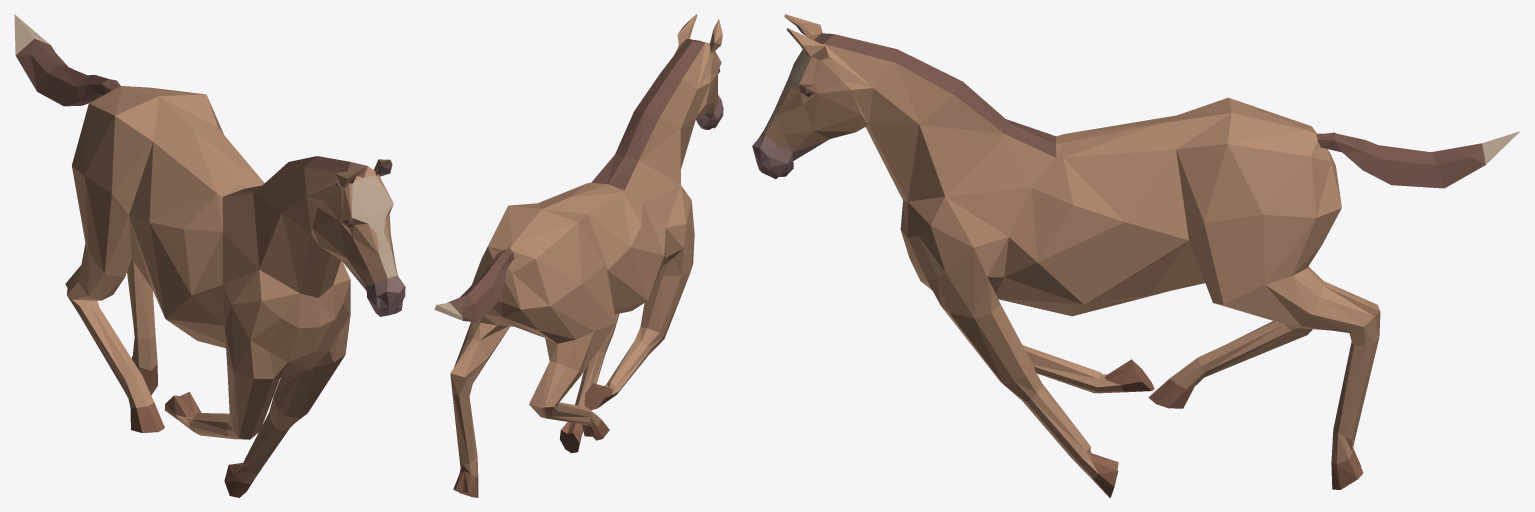
File: asset.glb
3 renders of one model, left to right at view 1: azimuth 30°, elevation 25°; view 2: azimuth 150°, elevation 25°; view 3: azimuth 270°, elevation 25°, orthographic. The views are drawn at different scales.
Visible parts, largest first — view 1: mesh_0; view 2: mesh_0; view 3: mesh_0.
Part boxes in pixels (x1,y1,x2,y2): mesh_0: [14, 14, 405, 497]; mesh_0: [434, 14, 723, 497]; mesh_0: [752, 14, 1520, 497].
Size of the model in its own units: 66.2 by 189 by 282.
